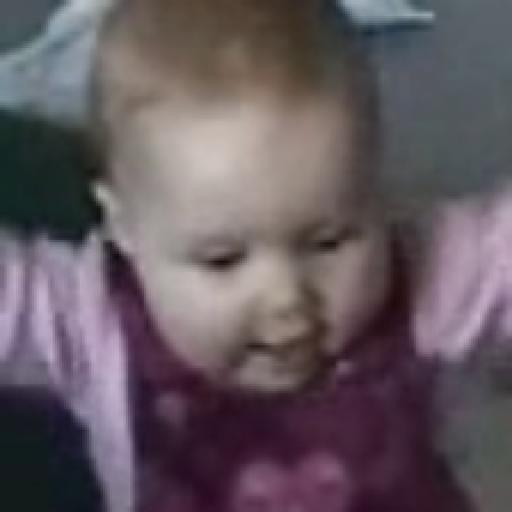Autism: (66, 14, 432, 438)
